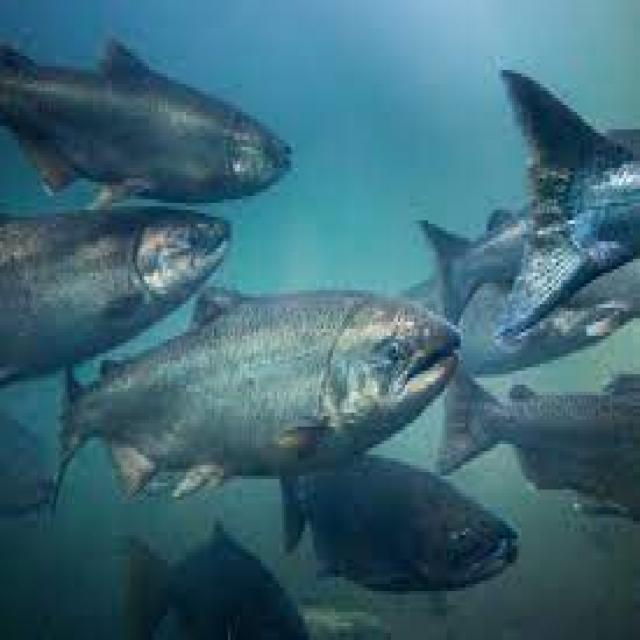salmon: (53, 267, 473, 506), (0, 7, 303, 205), (0, 185, 256, 389)
